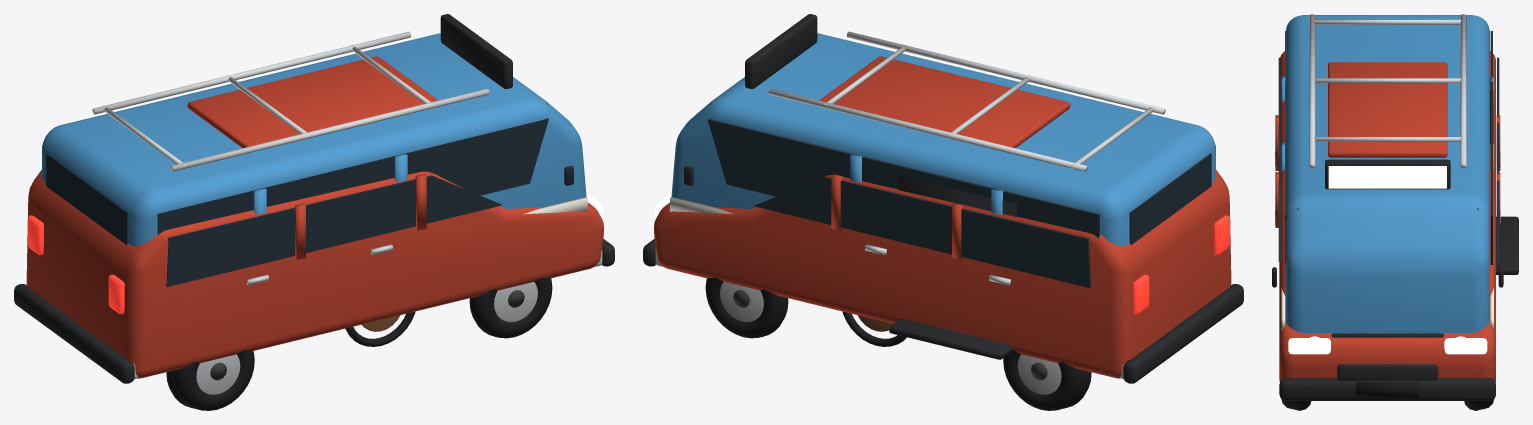
Rendered from kendaraan.glb.
The picture shows the model from 3 angles, left to right: view 1: azimuth 30°, elevation 25°; view 2: azimuth 150°, elevation 25°; view 3: azimuth 270°, elevation 25°; orthographic projection. The views are drawn at different scales.
Parts seen in each view (by area): view 1: Badan.002, Badan.001, KacaBelakang, KacaBelakang.001, AtapGerobak, Bemper2.06, Bemper2.14, Gril, RodaDepanKanan_Ban.001, RodaBelakangKanan_Ban.001, Pilar1-0.62, RodaDepanKanan_Velg.001 (+5 smaller); view 2: Badan.002, Badan.001, KacaBelakang.001, KacaBelakang, AtapGerobak, Bemper2.06, Gril, Bemper2.14, RodaDepanKiri_Ban.001, RodaBelakangKiri_Ban.001, Pintu, RodaDepanKiri_Velg.001 (+6 smaller); view 3: Badan.001, AtapGerobak, Badan.002, Bemper2.14, Bemper2.06, Gril, PapanTrayek, LampuDepan0.62, KacaBelakang.001, PelatDepan, KacaBelakang, Pilar1-0.62 (+2 smaller).
Boxes of the visible parts, bbox=[...] form: Badan.002: bbox=[26, 170, 603, 378]; Badan.001: bbox=[42, 33, 586, 246]; KacaBelakang: bbox=[46, 103, 548, 244]; KacaBelakang.001: bbox=[166, 175, 502, 286]; AtapGerobak: bbox=[187, 56, 438, 148]; Bemper2.06: bbox=[92, 31, 602, 379]; Bemper2.14: bbox=[14, 239, 614, 383]; Gril: bbox=[440, 14, 573, 185]; RodaDepanKanan_Ban.001: bbox=[469, 277, 552, 338]; RodaBelakangKanan_Ban.001: bbox=[174, 350, 254, 410]; Pilar1-0.62: bbox=[295, 174, 426, 259]; RodaDepanKanan_Velg.001: bbox=[494, 282, 537, 322]; Badan.002: bbox=[654, 170, 1231, 378]; Badan.001: bbox=[671, 33, 1215, 246]; KacaBelakang.001: bbox=[754, 176, 1090, 287]; KacaBelakang: bbox=[707, 103, 1211, 244]; AtapGerobak: bbox=[819, 56, 1070, 148]; Bemper2.06: bbox=[655, 31, 1165, 379]; Gril: bbox=[684, 14, 1013, 359]; Bemper2.14: bbox=[643, 239, 1243, 383]; RodaDepanKiri_Ban.001: bbox=[705, 277, 788, 338]; RodaBelakangKiri_Ban.001: bbox=[1003, 350, 1083, 410]; Pintu: bbox=[898, 175, 1016, 216]; RodaDepanKiri_Velg.001: bbox=[720, 282, 763, 322]; Badan.001: bbox=[1285, 15, 1489, 332]; AtapGerobak: bbox=[1328, 62, 1447, 157]; Badan.002: bbox=[1279, 51, 1495, 381]; Bemper2.14: bbox=[1279, 364, 1495, 400]; Bemper2.06: bbox=[1309, 14, 1466, 168]; Gril: bbox=[1272, 159, 1518, 337]; PapanTrayek: bbox=[1328, 166, 1446, 188]; LampuDepan0.62: bbox=[1288, 338, 1487, 354]; KacaBelakang.001: bbox=[1278, 57, 1499, 261]; PelatDepan: bbox=[1356, 382, 1419, 397]; KacaBelakang: bbox=[1285, 31, 1492, 301]; Pilar1-0.62: bbox=[1275, 115, 1500, 227].
Size of the model in its own units: 4.4 by 2.2 by 1.96.
